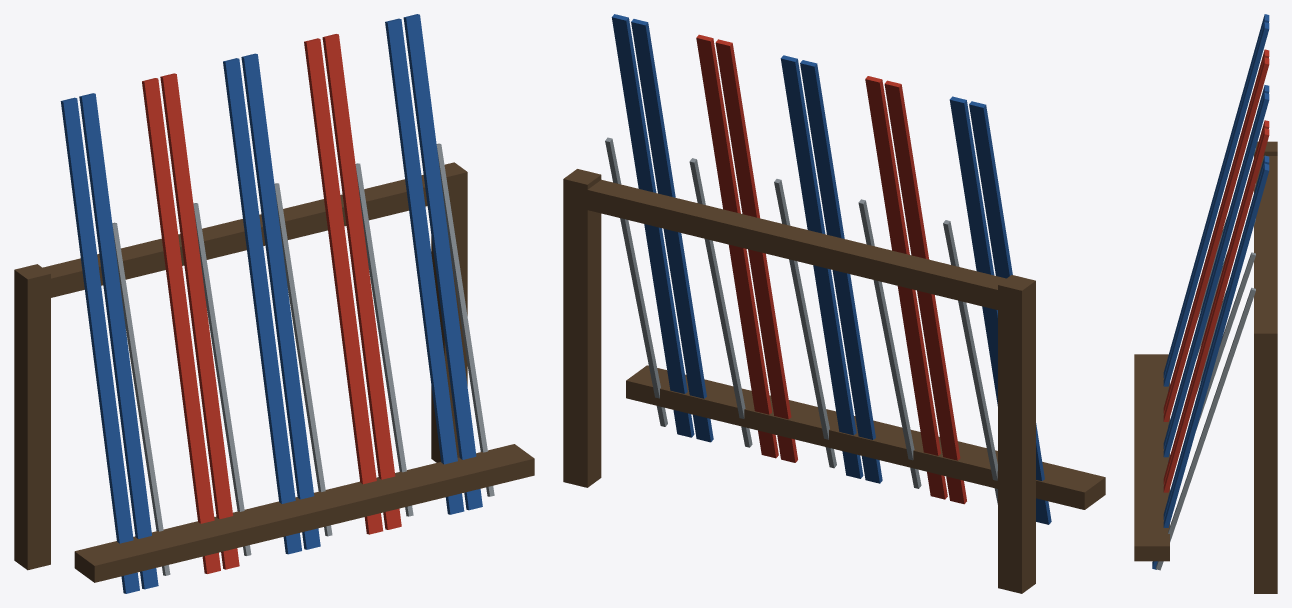
Rendered from so_ski_rack.glb.
3 views of the same model, side by side, from view 1: azimuth 30°, elevation 25°; view 2: azimuth 150°, elevation 25°; view 3: azimuth 270°, elevation 25° (orthographic). The views are drawn at different scales.
Visible parts, largest first — view 1: so_ski_rack; view 2: so_ski_rack; view 3: so_ski_rack.
Boxes of the visible parts, bbox=[...] form: so_ski_rack: bbox=[14, 14, 534, 593]; so_ski_rack: bbox=[563, 14, 1105, 593]; so_ski_rack: bbox=[1134, 14, 1277, 593].
Bounding box in the file's own units: 1.9 × 1.87 × 0.5991.
